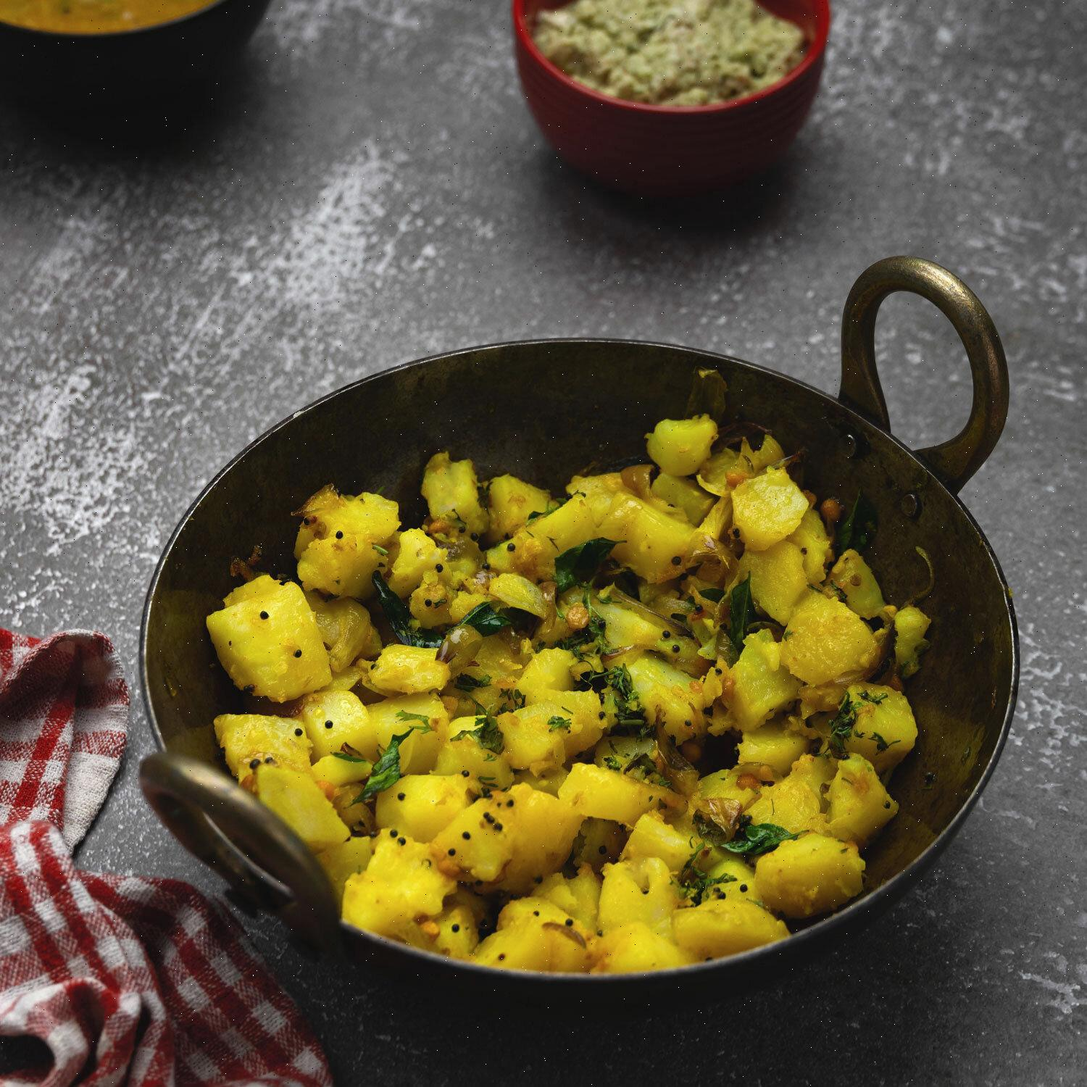aloo sabji: (233, 436, 890, 932)
